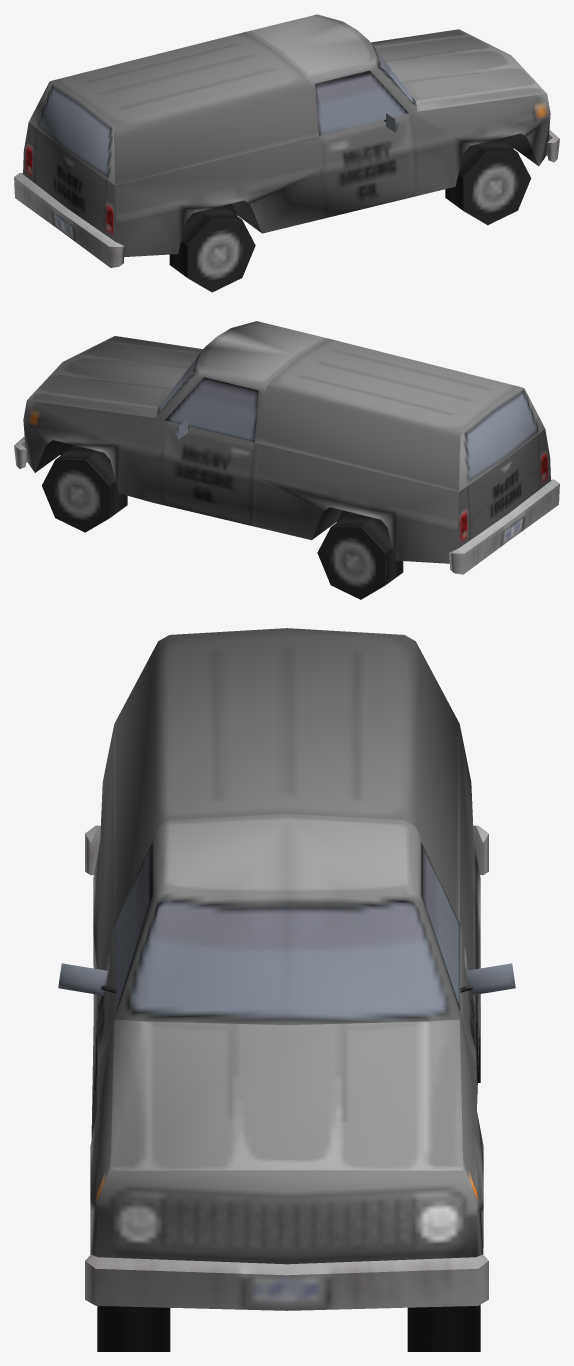
Rendered from fhqDiecast18PickupVan.fbx.
The picture shows the model from 3 angles, top to bottom: view 1: azimuth 30°, elevation 25°; view 2: azimuth 150°, elevation 25°; view 3: azimuth 270°, elevation 25°; orthographic projection. The views are drawn at different scales.
Visible parts, largest first — view 1: Vehicles_PickUpVan; view 2: Vehicles_PickUpVan; view 3: Vehicles_PickUpVan.
Part boxes in pixels (<box>): Vehicles_PickUpVan: <box>14,14,559,292</box>; Vehicles_PickUpVan: <box>14,321,559,599</box>; Vehicles_PickUpVan: <box>58,628,515,1351</box>.
Size of the model in its own units: 0.445 by 0.1678 by 0.1924.
